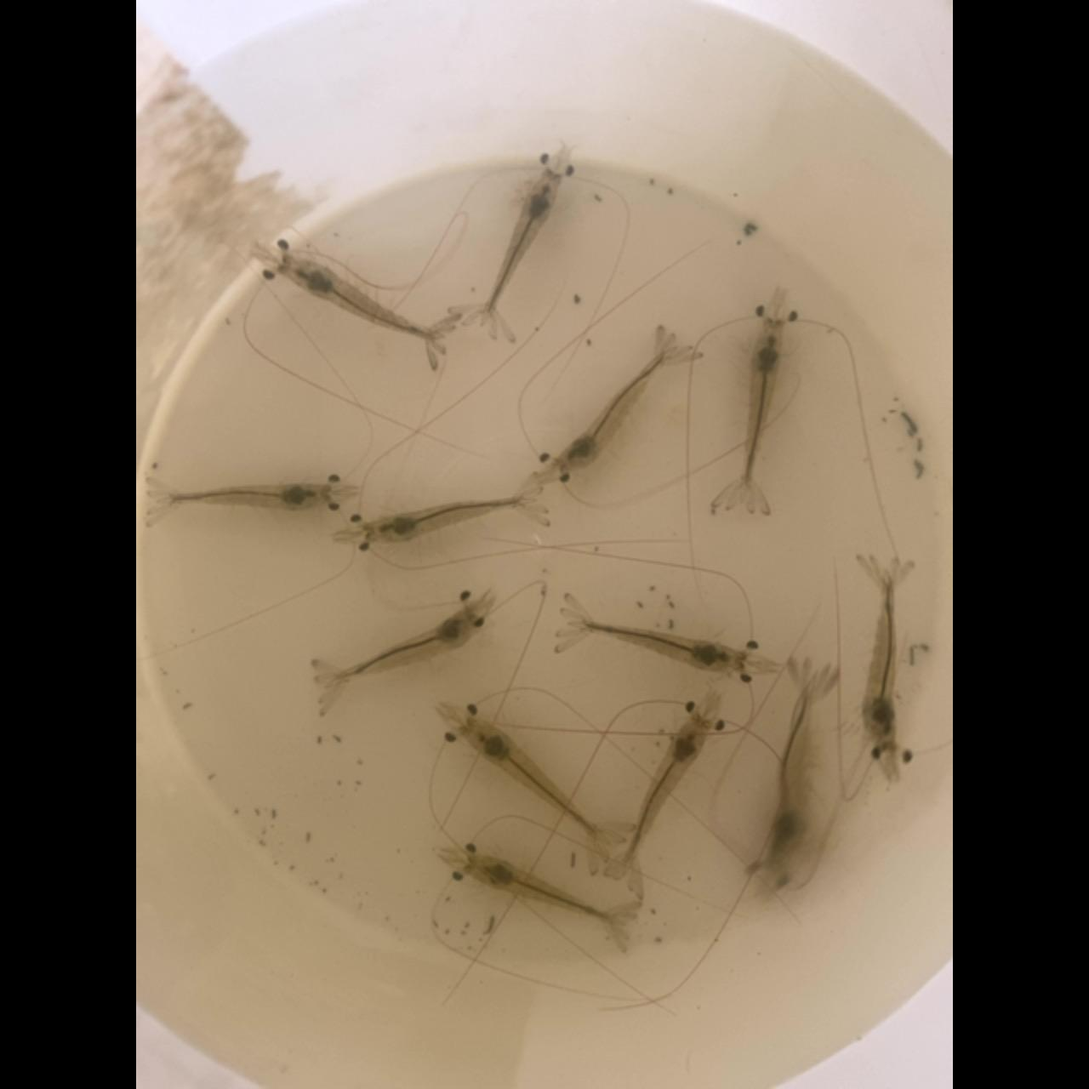top_shrimp: (461, 717, 613, 847), (557, 346, 679, 470), (281, 255, 449, 340), (622, 716, 708, 879), (480, 172, 562, 327), (322, 608, 477, 689), (467, 854, 631, 927), (766, 670, 818, 869), (565, 620, 744, 672), (741, 320, 785, 506), (366, 496, 539, 542), (863, 565, 897, 746), (155, 482, 329, 510)
